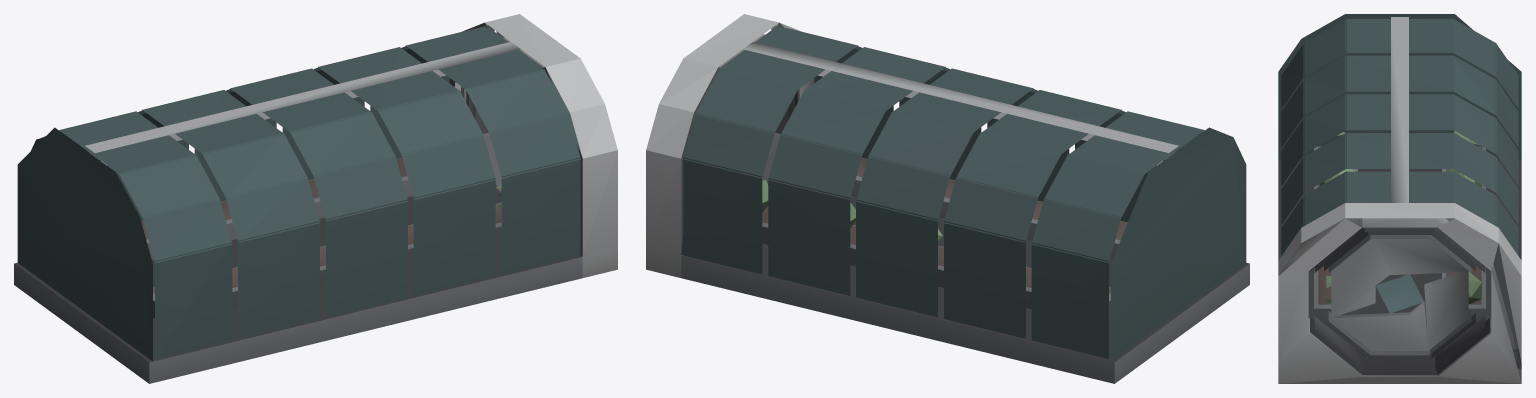
File: gmod.lod.glb
The picture shows the model from 3 angles, left to right: view 1: azimuth 30°, elevation 25°; view 2: azimuth 150°, elevation 25°; view 3: azimuth 270°, elevation 25°; orthographic projection. The views are drawn at different scales.
Visible parts, largest first — view 1: gmod; view 2: gmod; view 3: gmod.
Part boxes in pixels (x1,y1,x2,y2): gmod: (14, 14, 617, 383); gmod: (646, 14, 1249, 383); gmod: (1278, 14, 1521, 383).
Bounding box in the file's own units: 11.2 × 4.2 × 5.6.
